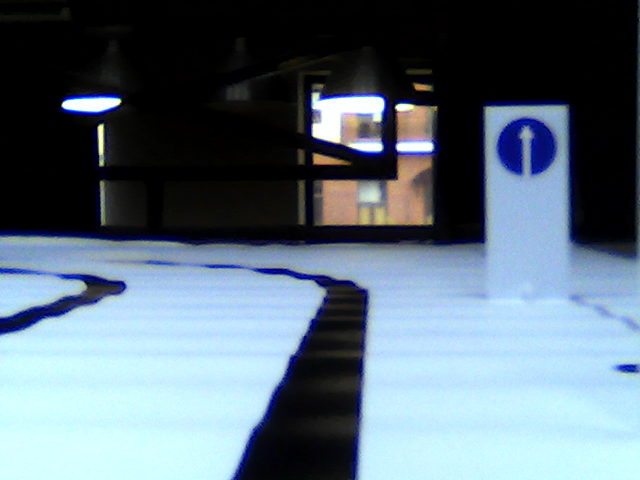forw: (492, 115, 561, 178)
